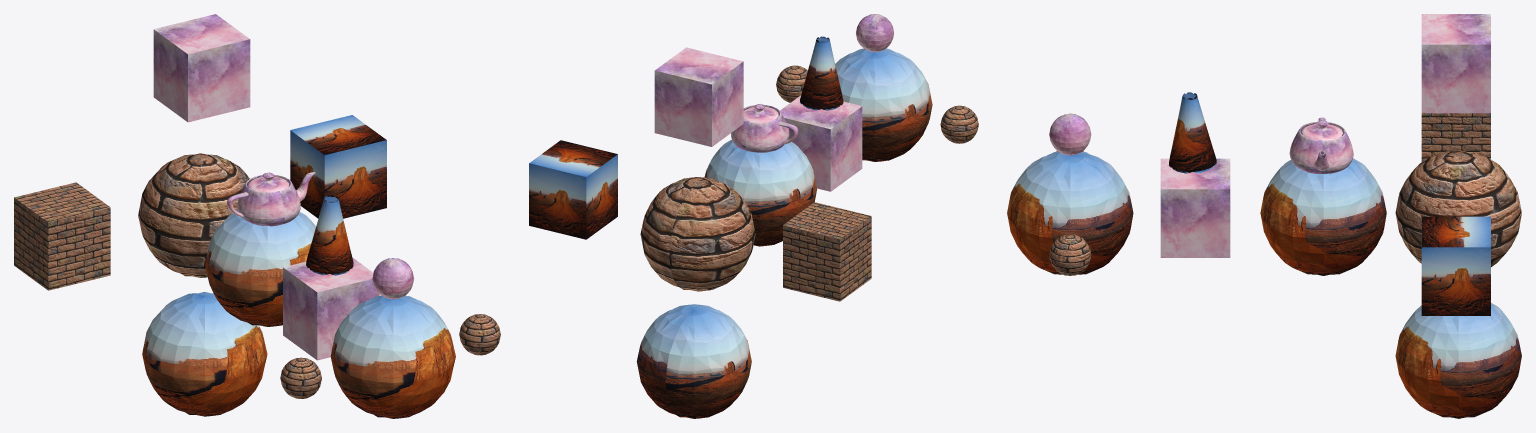
The model's file is Totem.FBX.
3 renders of one model, left to right at view 1: azimuth 30°, elevation 25°; view 2: azimuth 150°, elevation 25°; view 3: azimuth 270°, elevation 25°, orthographic. The views are drawn at different scales.
Parts seen in each view (by area): view 1: Sphere001, Sphere008, Sphere004, Box002, Box003, Sphere003, Box004, Box001, Teapot001, Cone001, Sphere009, Sphere010 (+1 smaller); view 2: Sphere008, Sphere004, Sphere001, Box002, Box003, Box004, Sphere003, Box001, Teapot001, Cone001, Sphere011, Sphere009 (+1 smaller); view 3: Sphere003, Sphere008, Sphere001, Sphere004, Box004, Box002, Box001, Box003, Teapot001, Cone001, Sphere009, Sphere010.
Boxes of the visible parts, left/top/right/bottom form: Sphere001: left=330, top=295, right=455, bottom=418; Sphere008: left=142, top=292, right=267, bottom=416; Sphere004: left=138, top=153, right=249, bottom=277; Box002: left=153, top=14, right=250, bottom=122; Box003: left=14, top=182, right=110, bottom=290; Sphere003: left=205, top=210, right=315, bottom=326; Box004: left=290, top=115, right=386, bottom=218; Box001: left=283, top=257, right=379, bottom=360; Teapot001: left=227, top=172, right=315, bottom=226; Cone001: left=306, top=195, right=353, bottom=275; Sphere009: left=372, top=258, right=414, bottom=299; Sphere010: left=459, top=314, right=500, bottom=355; Sphere008: left=636, top=304, right=751, bottom=418; Sphere004: left=640, top=177, right=755, bottom=291; Sphere001: left=835, top=48, right=932, bottom=161; Box002: left=654, top=47, right=743, bottom=146; Box003: left=783, top=202, right=871, bottom=301; Box004: left=529, top=140, right=617, bottom=239; Sphere003: left=704, top=139, right=816, bottom=246; Box001: left=780, top=95, right=862, bottom=191; Teapot001: left=731, top=104, right=798, bottom=152; Cone001: left=800, top=36, right=843, bottom=110; Sphere011: left=940, top=105, right=978, bottom=143; Sphere009: left=856, top=14, right=893, bottom=52; Sphere003: left=1260, top=158, right=1386, bottom=275; Sphere008: left=1395, top=303, right=1521, bottom=418; Sphere001: left=1007, top=151, right=1133, bottom=274; Sphere004: left=1395, top=150, right=1521, bottom=266; Box004: left=1421, top=216, right=1490, bottom=315; Box002: left=1421, top=14, right=1490, bottom=113; Box001: left=1160, top=158, right=1230, bottom=257; Box003: left=1421, top=113, right=1490, bottom=161; Teapot001: left=1289, top=117, right=1353, bottom=173; Cone001: left=1169, top=92, right=1216, bottom=173; Sphere009: left=1049, top=113, right=1091, bottom=155; Sphere010: left=1049, top=234, right=1091, bottom=275.
Size of the model in its own units: 1.87 by 2.44 by 2.
Materials: 3 (3 with a texture image).
